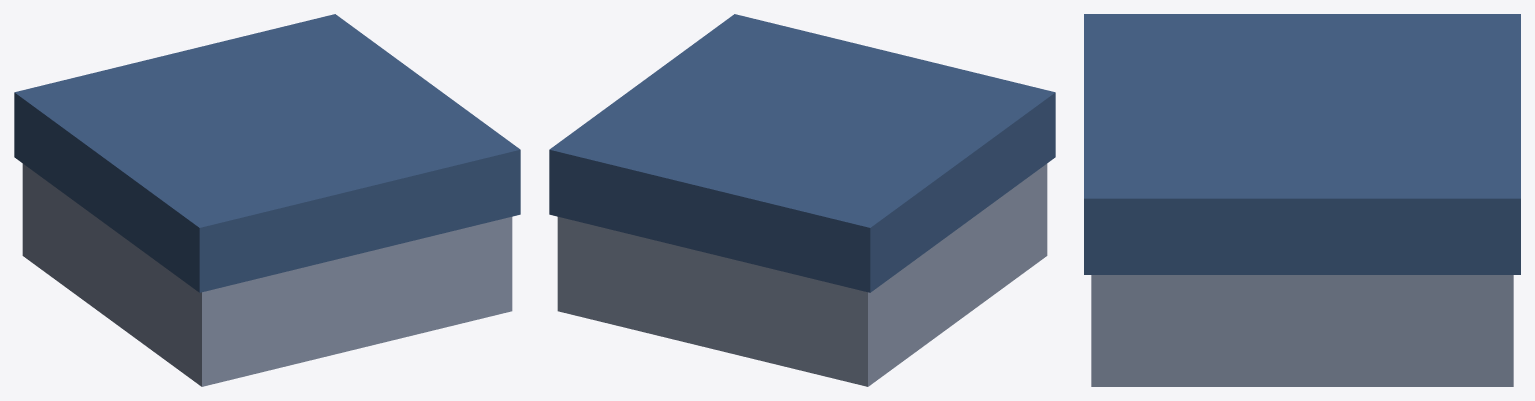
Rendered from Simple-Tile.fbx.
3 views of the same model, side by side, from view 1: azimuth 30°, elevation 25°; view 2: azimuth 150°, elevation 25°; view 3: azimuth 270°, elevation 25° (orthographic). The views are drawn at different scales.
Visible parts, largest first — view 1: Cube; view 2: Cube; view 3: Cube.
Part boxes in pixels (left/top/right/bottom): Cube: left=14, top=14, right=520, bottom=386; Cube: left=549, top=14, right=1055, bottom=386; Cube: left=1084, top=14, right=1520, bottom=386.
Size of the model in its own units: 207 by 100 by 207.
